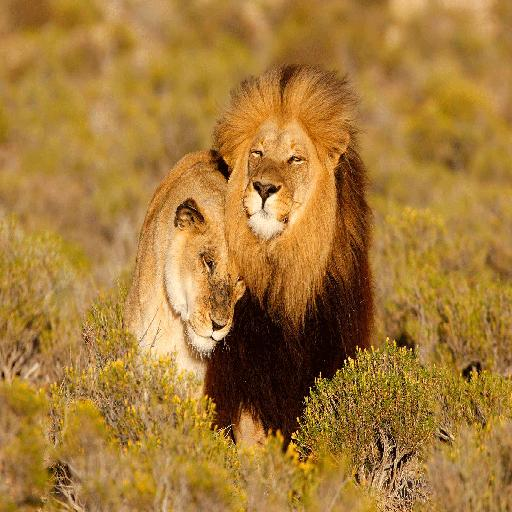Lion: (194, 55, 385, 473), (115, 137, 251, 455)
